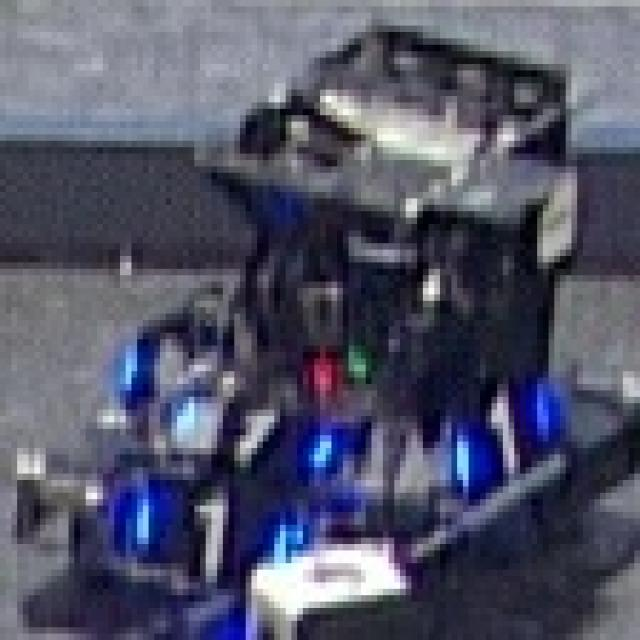B1: (126, 480, 291, 582), (446, 378, 548, 487)
